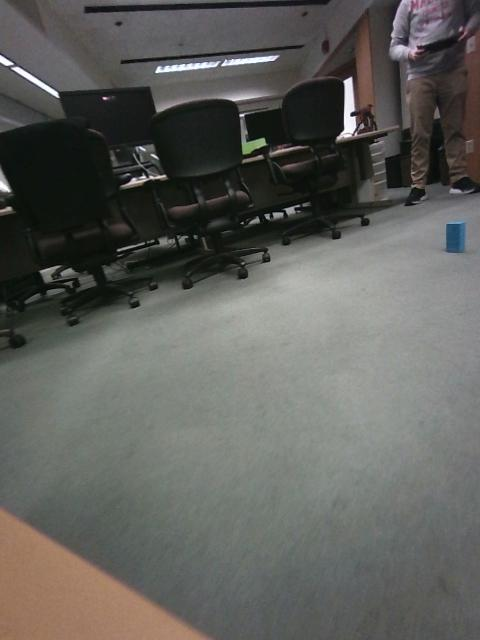block: (323, 269, 368, 306)
